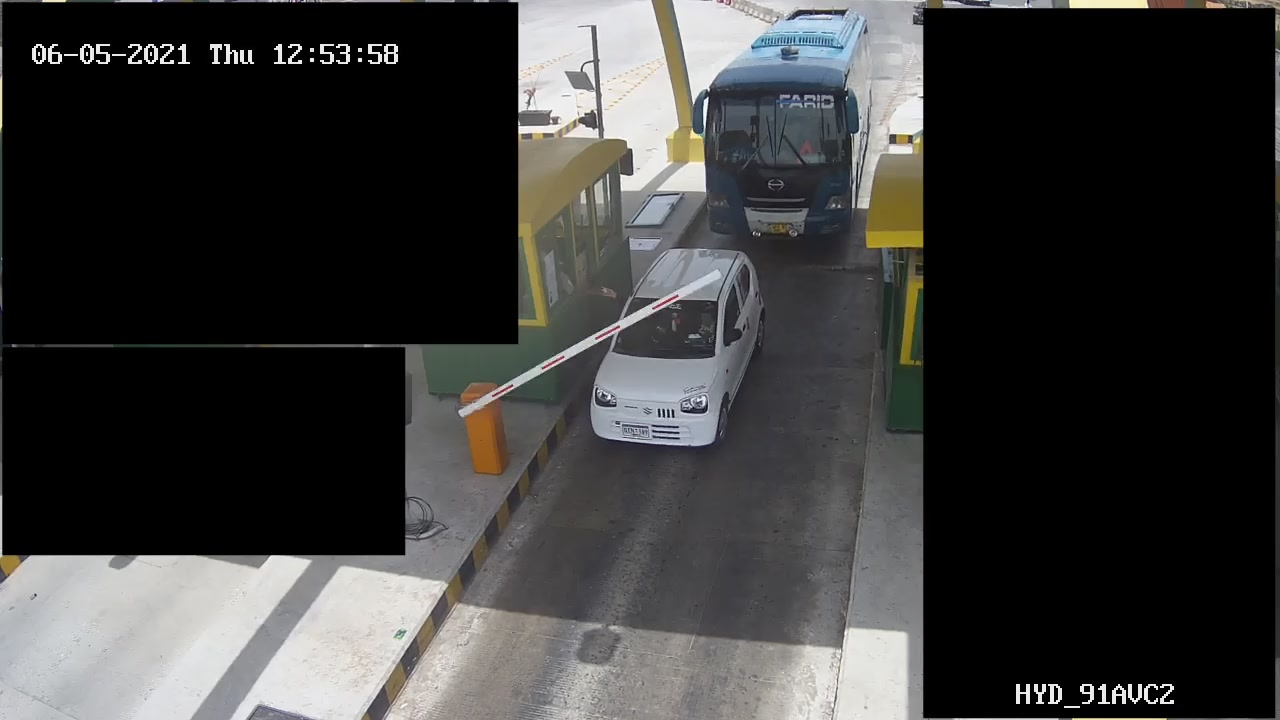F1: (589, 246, 768, 453)
F4: (691, 3, 874, 246)
